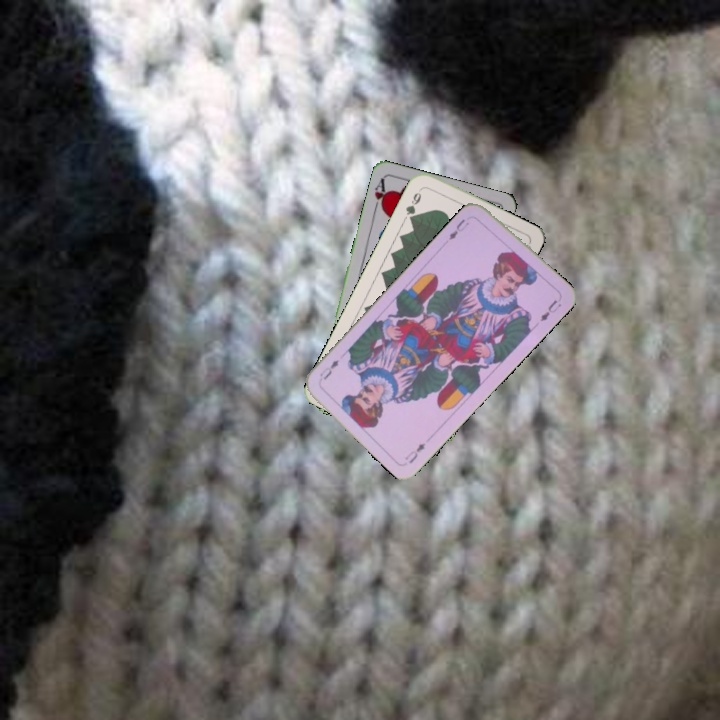EU: (444, 215, 472, 243), (401, 439, 428, 466)
G9: (401, 184, 425, 224)
HA: (369, 175, 390, 215)
